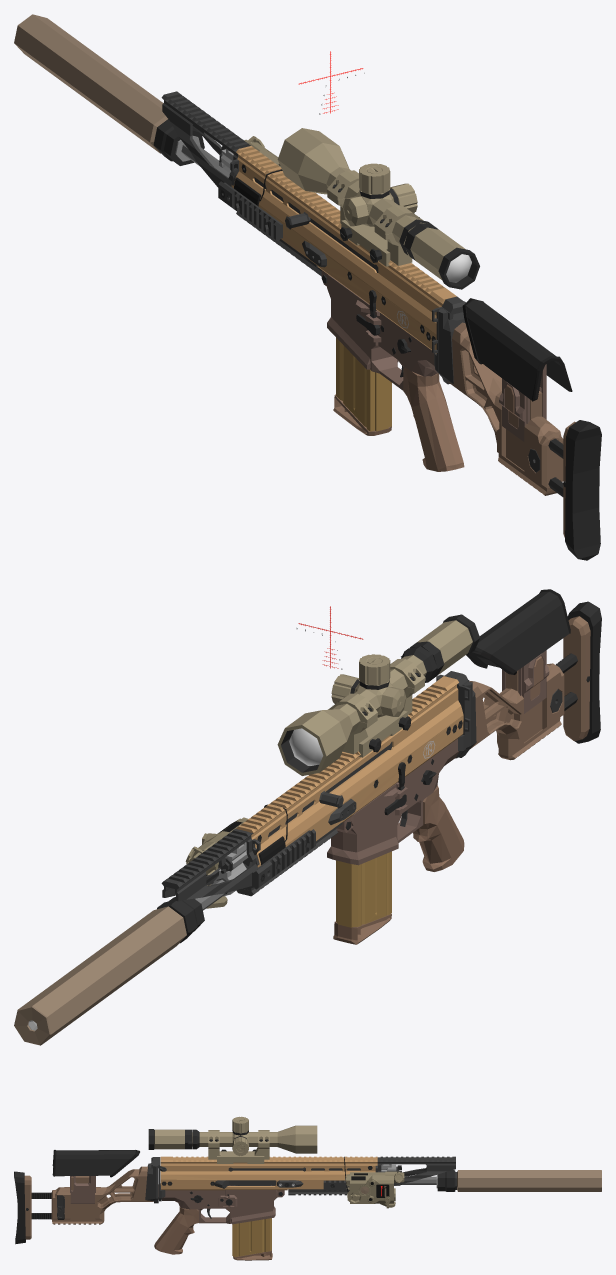
Rendered from SCAR_H_SF.fbx.
The picture shows the model from 3 angles, top to bottom: view 1: azimuth 30°, elevation 25°; view 2: azimuth 150°, elevation 25°; view 3: azimuth 270°, elevation 25°; orthographic projection. The views are drawn at different scales.
Parts seen in each view (by area): view 1: main, scope, silencer, shoulder_pad, stock_butt, mag, bolt_carrier_group; view 2: main, scope, silencer, shoulder_pad, stock_butt, mag, scope lens, PEQ-15, bolt_carrier_group; view 3: main, scope, silencer, shoulder_pad, PEQ-15, mag, stock_butt, bolt_carrier_group.
Part boxes in pixels (x1=…): main: x1=161, y1=91, x2=563, y2=495; scope: x1=277, y1=128, x2=479, y2=289; silencer: x1=14, y1=14, x2=204, y2=165; shoulder_pad: x1=462, y1=298, x2=572, y2=441; stock_butt: x1=548, y1=420, x2=601, y2=560; mag: x1=333, y1=337, x2=391, y2=435; bolt_carrier_group: x1=254, y1=177, x2=378, y2=272; main: x1=161, y1=663, x2=564, y2=910; scope: x1=277, y1=614, x2=479, y2=775; silencer: x1=14, y1=897, x2=204, y2=1045; shoulder_pad: x1=466, y1=589, x2=570, y2=713; stock_butt: x1=556, y1=601, x2=601, y2=743; mag: x1=333, y1=851, x2=391, y2=944; scope lens: x1=289, y1=728, x2=323, y2=765; PEQ-15: x1=185, y1=817, x2=247, y2=908; bolt_carrier_group: x1=268, y1=742, x2=392, y2=837; main: x1=51, y1=1156, x2=455, y2=1254; scope: x1=148, y1=1116, x2=317, y2=1163; silencer: x1=436, y1=1170, x2=601, y2=1191; shoulder_pad: x1=52, y1=1150, x2=139, y2=1203; PEQ-15: x1=345, y1=1171, x2=404, y2=1208; mag: x1=232, y1=1185, x2=272, y2=1260; stock_butt: x1=14, y1=1171, x2=57, y2=1244; bolt_carrier_group: x1=228, y1=1167, x2=360, y2=1185.
Size of the model in its own units: 9.25 by 39.43 by 115.
